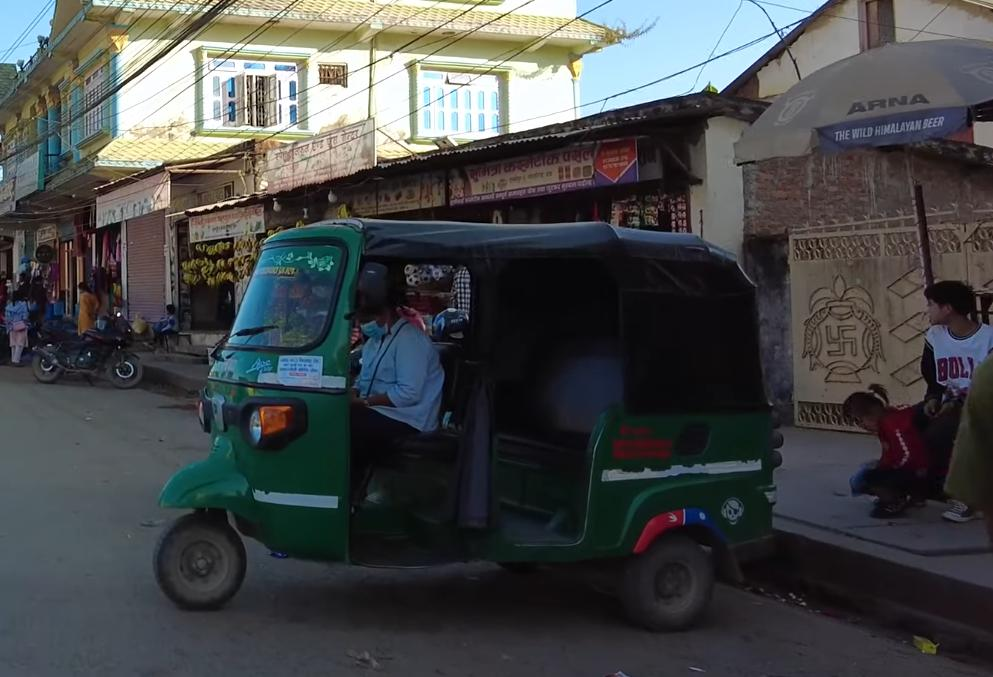auto_rickshaw: (138, 204, 787, 643)
bike: (31, 309, 147, 390)
